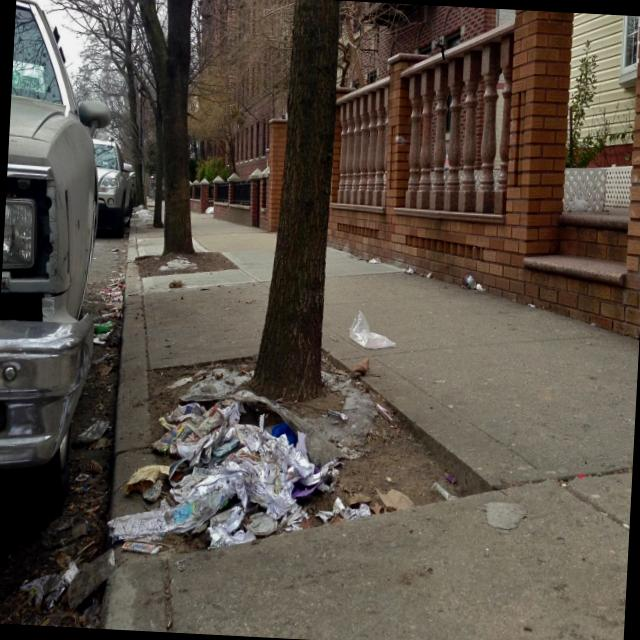garbage: (130, 381, 336, 591)
